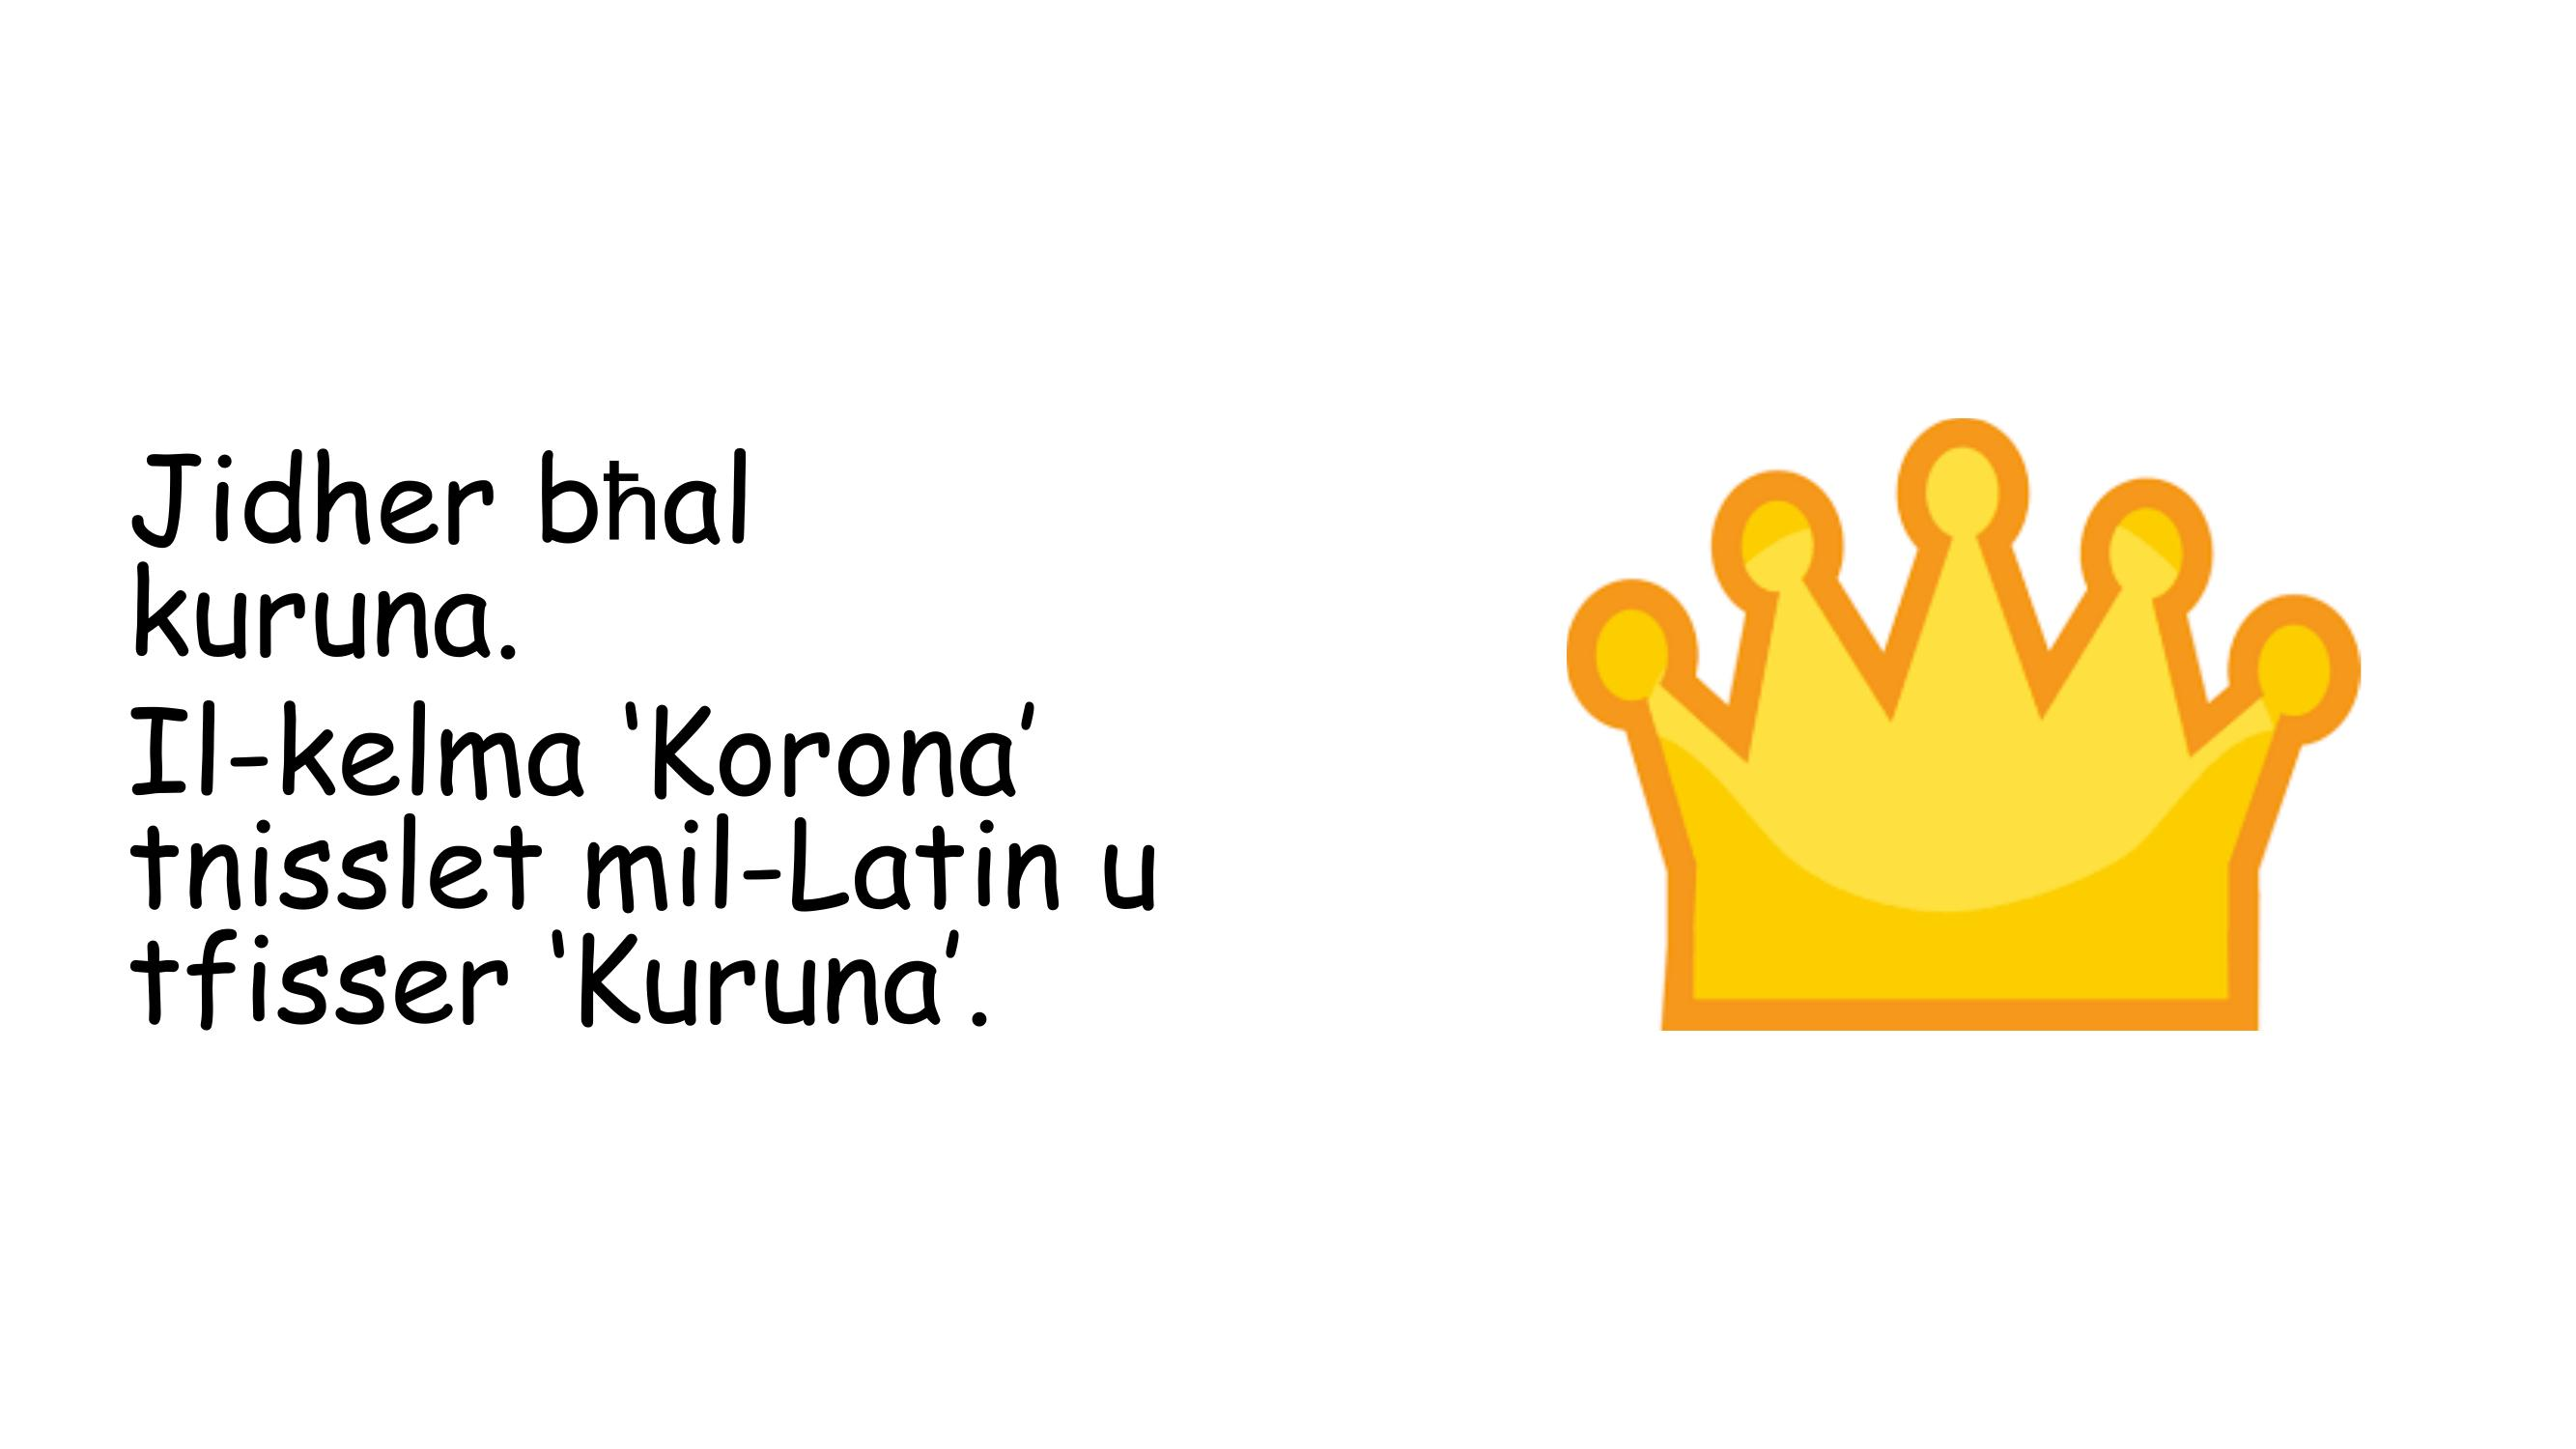text: (106, 428, 1185, 1062)
